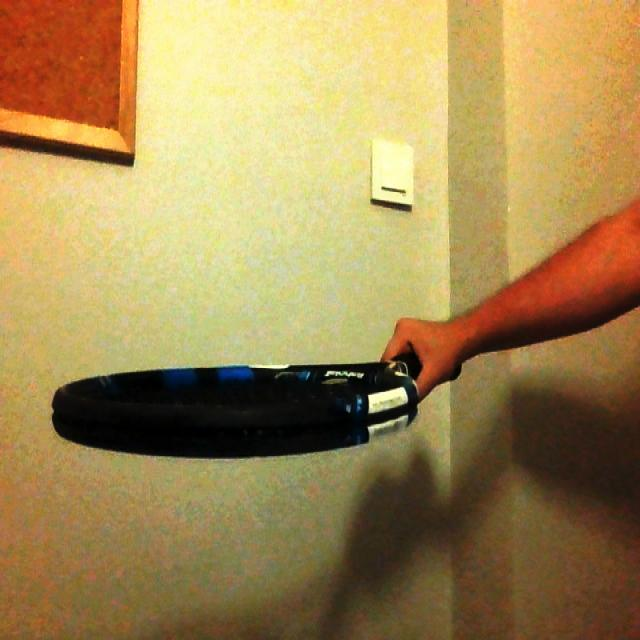TennisRacket: (54, 360, 461, 454)
